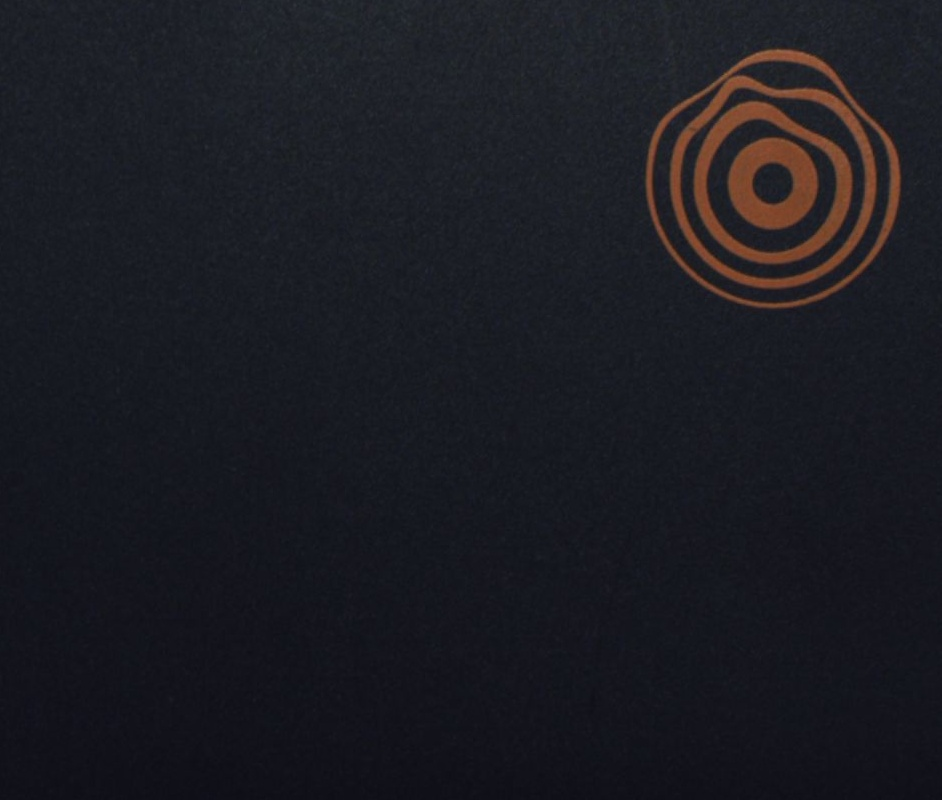BU_HG680GY: (637, 49, 908, 308)
